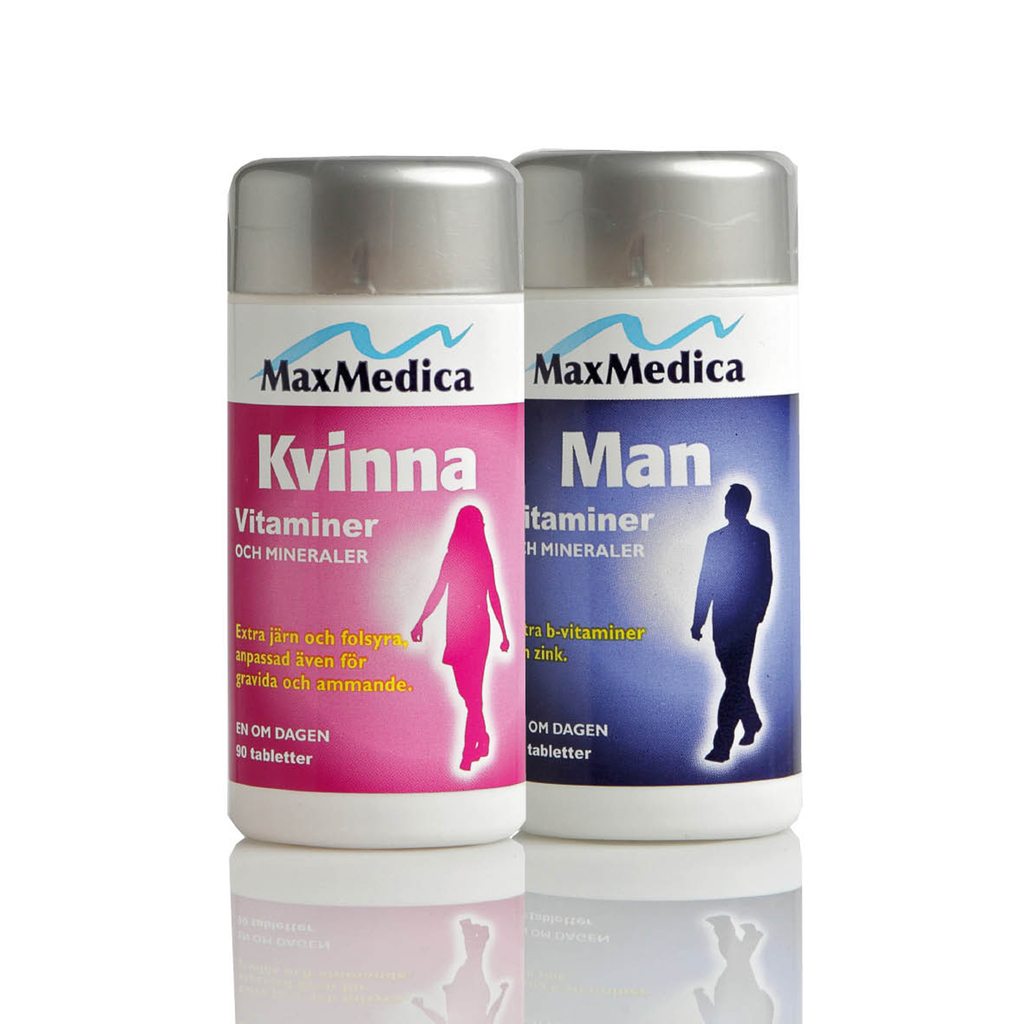Person: (410, 504, 510, 771), (689, 483, 773, 762)
